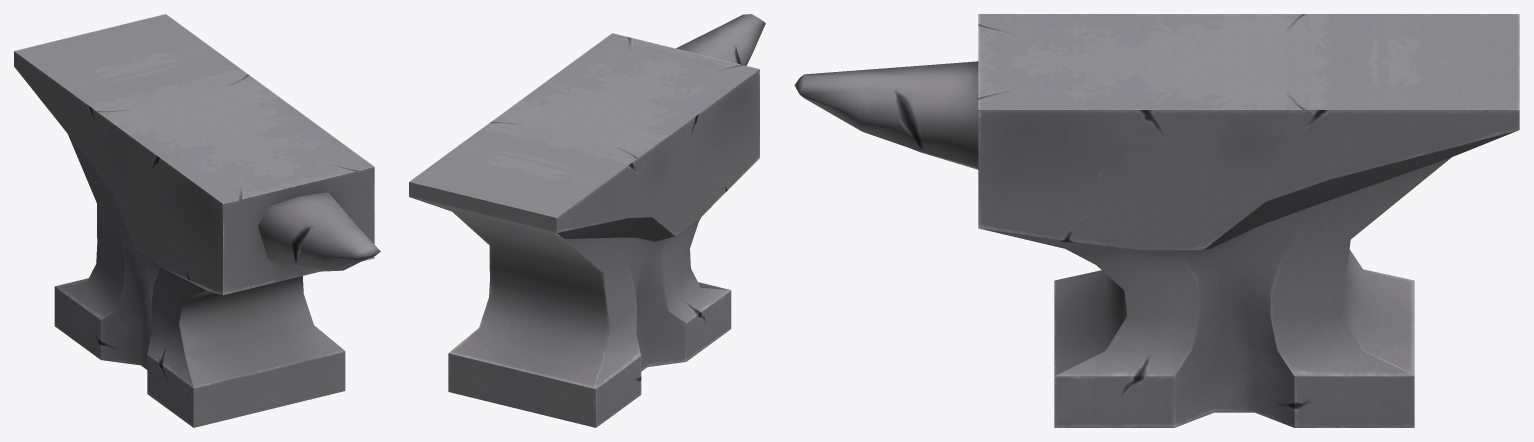
File: Anvil.FBX
3 renders of one model, left to right at view 1: azimuth 30°, elevation 25°; view 2: azimuth 150°, elevation 25°; view 3: azimuth 270°, elevation 25°, orthographic. The views are drawn at different scales.
Parts seen in each view (by area): view 1: Anvil; view 2: Anvil; view 3: Anvil.
Part boxes in pixels (x1,y1,x2,y2): Anvil: (14, 14, 380, 427); Anvil: (409, 14, 765, 427); Anvil: (794, 14, 1519, 427).
Bounding box in the file's own units: 28.73 × 44.41 × 91.75.
1 material, 1 textured.
